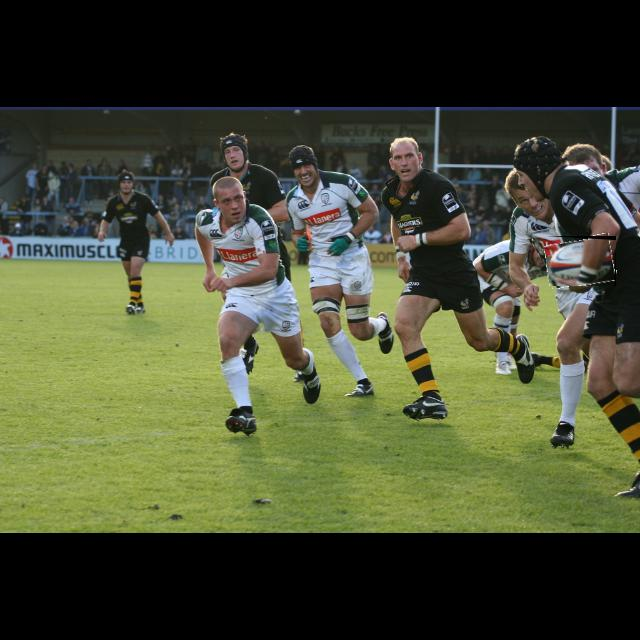Football: (546, 236, 616, 286)
